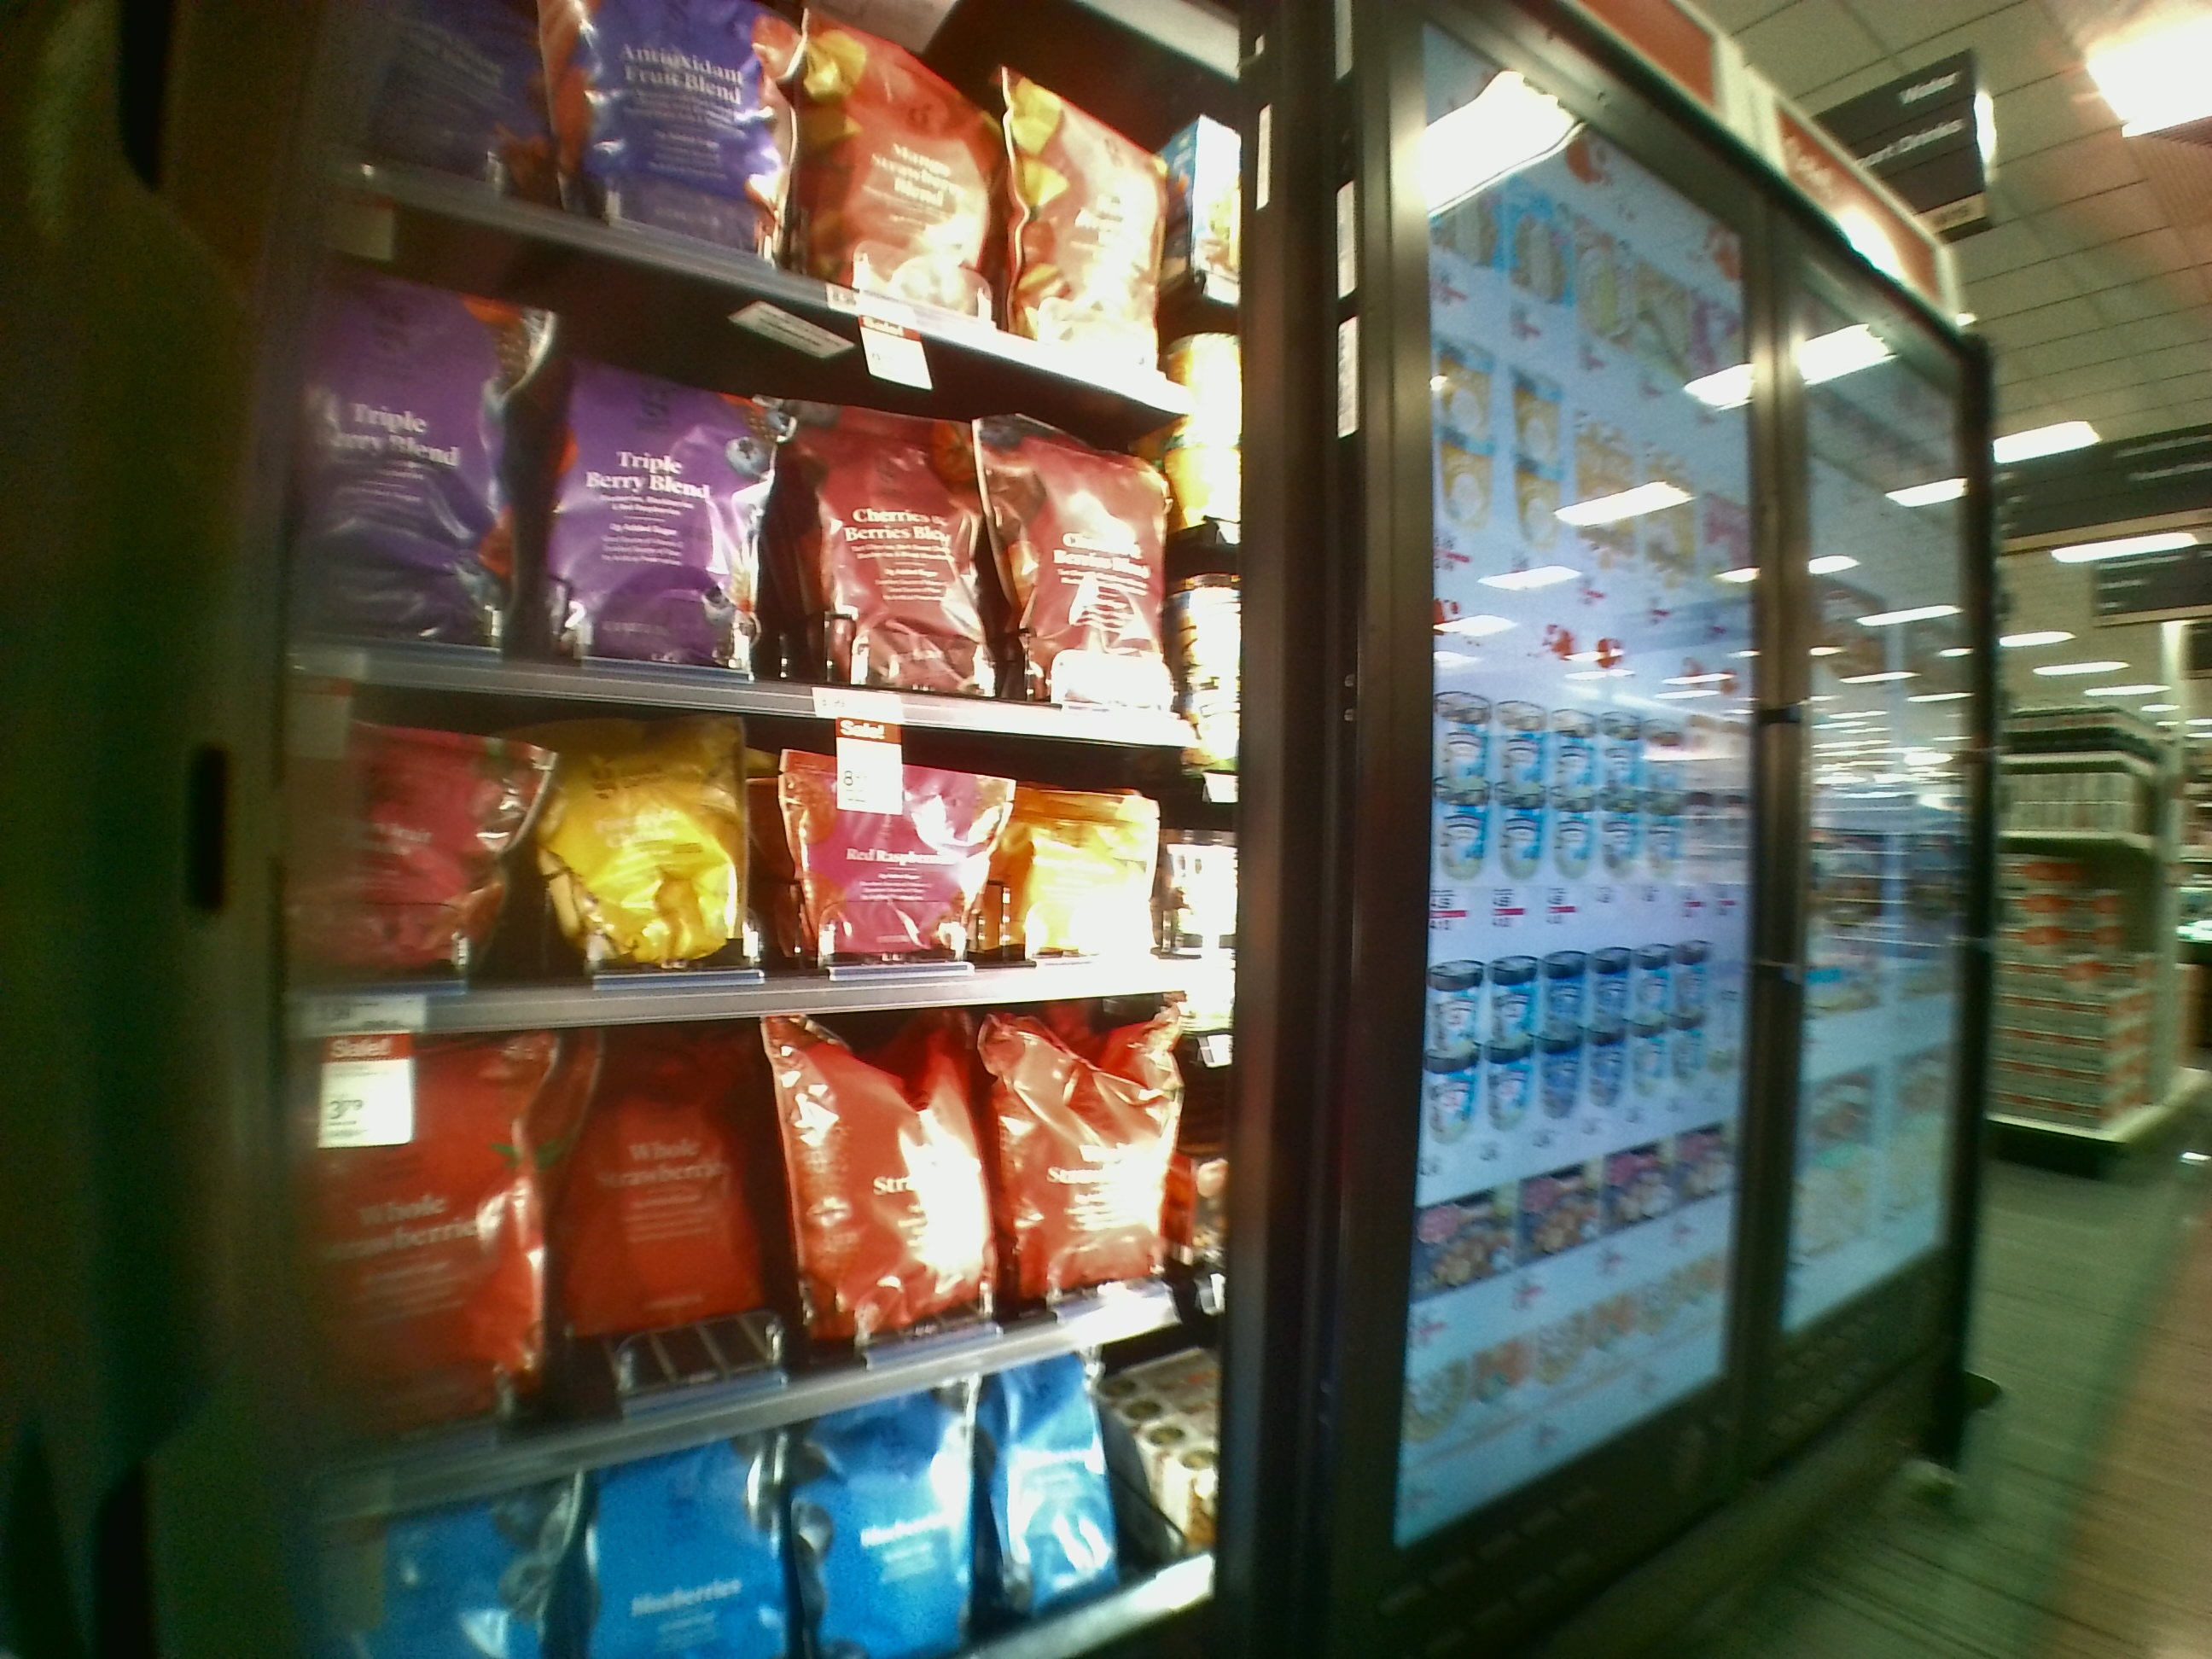shelf: (298, 1032, 1245, 1441), (284, 308, 1235, 702), (287, 690, 1261, 1032)
